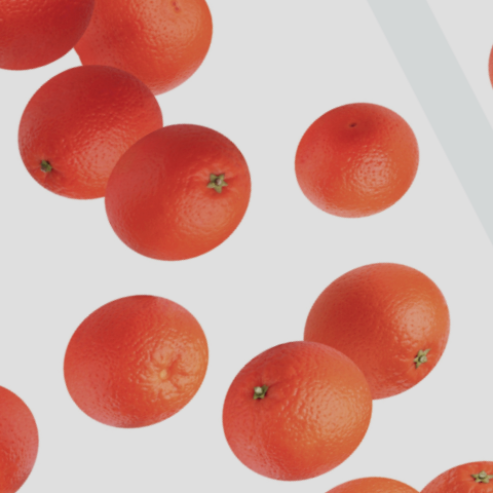orange: (21, 249, 239, 461), (273, 231, 486, 432), (75, 91, 285, 290), (0, 33, 201, 239), (188, 307, 407, 493), (272, 75, 446, 249), (76, 0, 250, 135)
